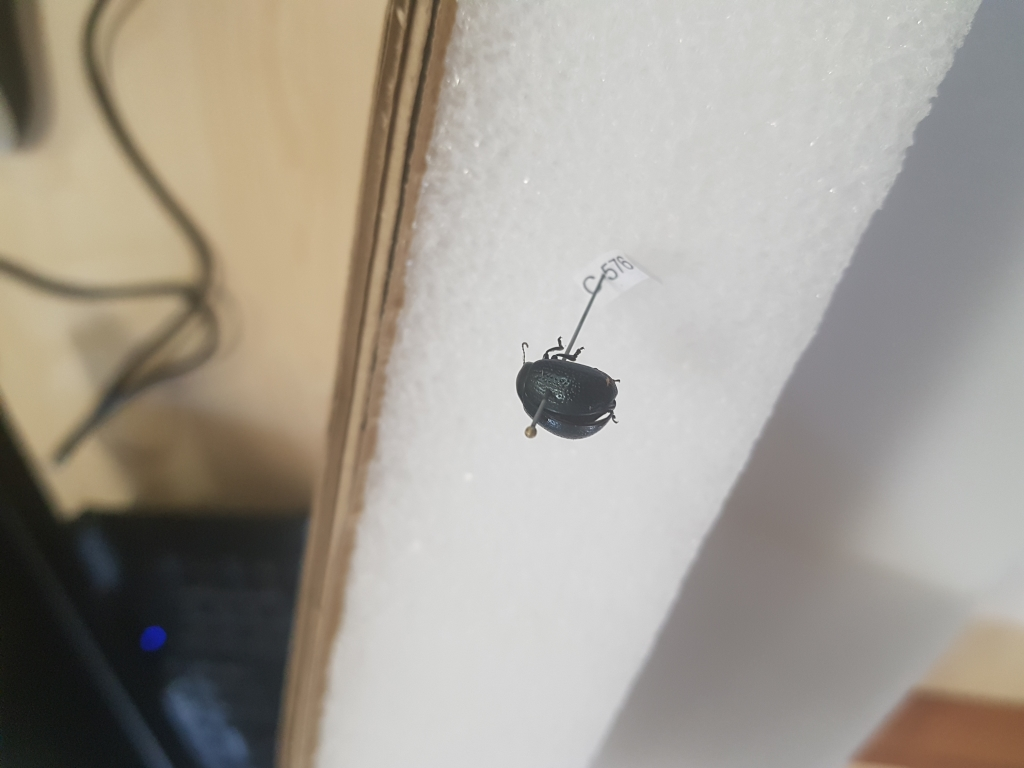Chrysolina_oricalcia: (510, 337, 627, 443)
